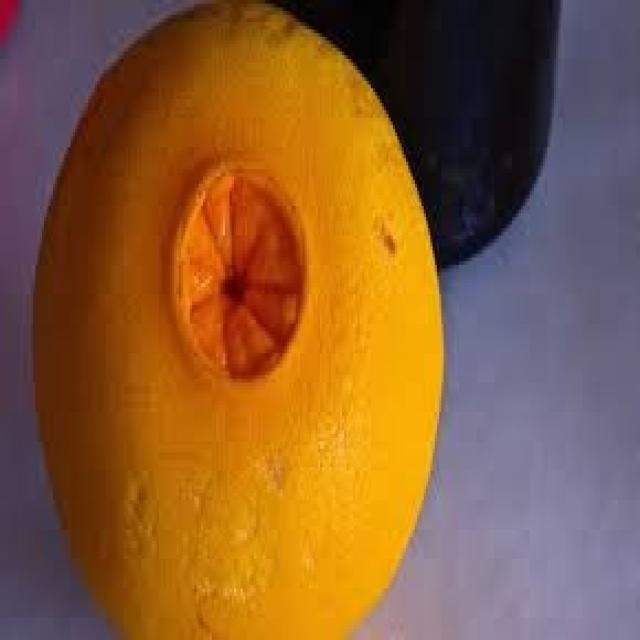Good_Orange: (31, 0, 448, 640)
